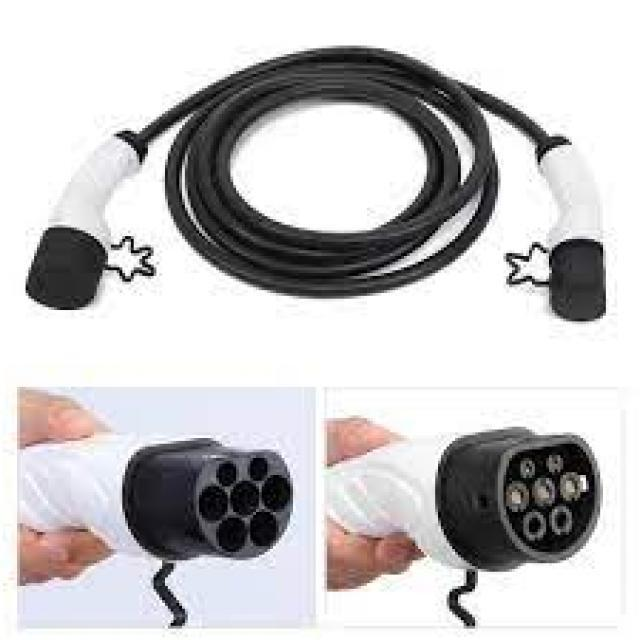Type 2: (417, 392, 627, 600)
